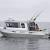fishing boat: (0, 9, 50, 41)
